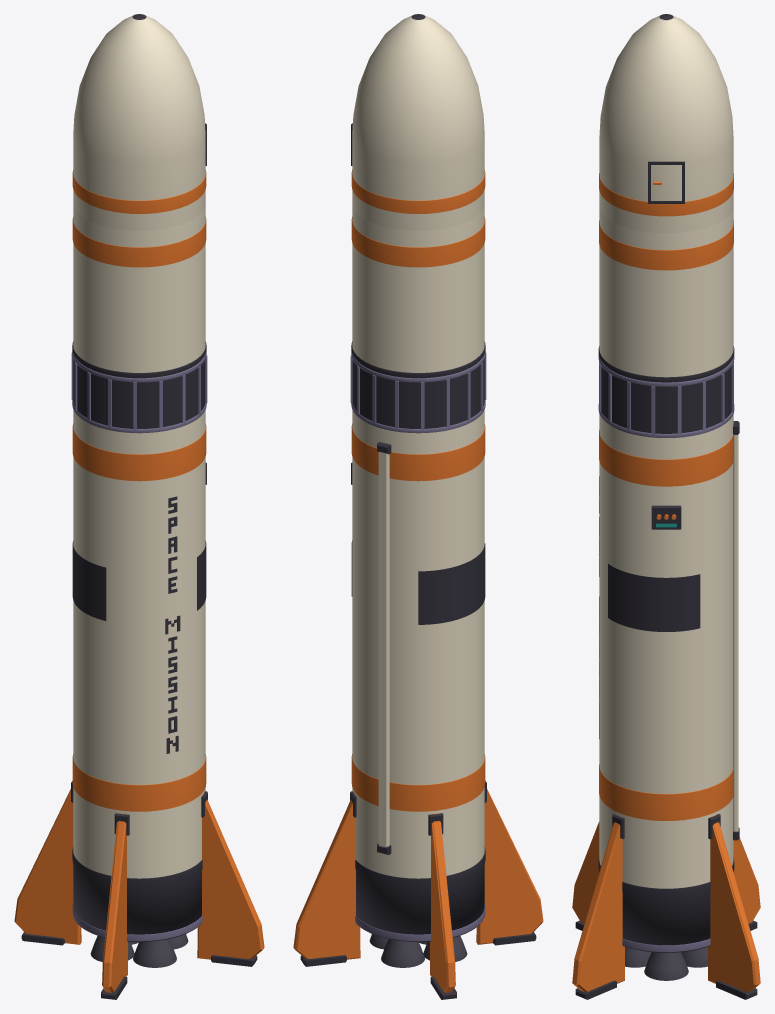
File: rocket.glb
The picture shows the model from 3 angles, left to right: view 1: azimuth 30°, elevation 25°; view 2: azimuth 150°, elevation 25°; view 3: azimuth 270°, elevation 25°; orthographic projection.
Visible parts, largest first — view 1: stage1_creamHull, stage1_orange, stage1_graphite, fairing_l_creamHull, stage2_creamHull, fairing_r_creamHull, stage1_purpleGrey, stage2_orange, stage1_steel, fairing_l_orange, stage2_graphite; view 2: stage1_creamHull, stage1_orange, stage1_graphite, fairing_l_creamHull, stage2_creamHull, fairing_r_creamHull, stage1_purpleGrey, stage2_orange, stage1_steel, fairing_l_orange, stage2_graphite; view 3: stage1_creamHull, fairing_r_creamHull, stage1_orange, stage1_graphite, stage2_creamHull, stage1_purpleGrey, stage2_orange, stage1_steel, fairing_r_orange, stage2_graphite, fairing_r_graphite.
Boxes of the visible parts, x1,y1,x2,y2 form: stage1_creamHull: (73,410,205,878); stage1_orange: (14,424,264,992); stage1_graphite: (21,359,257,999); fairing_l_creamHull: (73,15,172,230); stage2_creamHull: (73,205,205,372); fairing_r_creamHull: (137,14,205,226); stage1_purpleGrey: (71,350,207,941); stage2_orange: (72,217,206,267); stage1_steel: (90,934,188,967); fairing_l_orange: (72,170,172,213); stage2_graphite: (72,341,206,377); stage1_creamHull: (352,410,484,878); stage1_orange: (293,424,543,992); stage1_graphite: (300,359,536,999); fairing_l_creamHull: (385,15,484,230); stage2_creamHull: (352,205,484,372); fairing_r_creamHull: (352,14,420,226); stage1_purpleGrey: (350,350,486,941); stage2_orange: (351,217,485,267); stage1_steel: (369,934,467,967); fairing_l_orange: (385,170,485,213); stage2_graphite: (351,341,485,377); stage1_creamHull: (599,414,738,888); fairing_r_creamHull: (599,17,733,233); stage1_orange: (572,430,760,991); stage1_graphite: (575,365,757,999); stage2_creamHull: (599,206,733,377); stage1_purpleGrey: (598,354,734,952); stage2_orange: (599,220,733,270); stage1_steel: (625,947,707,980); fairing_r_orange: (599,175,733,216); stage2_graphite: (598,346,734,381); fairing_r_graphite: (648,15,684,203).
Size of the model in its own units: 2.53 by 14 by 2.53.
